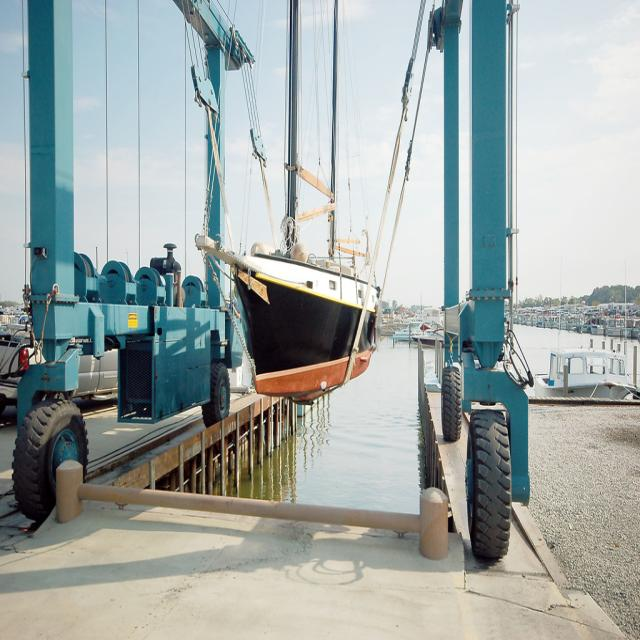Boat: (192, 0, 444, 407)
